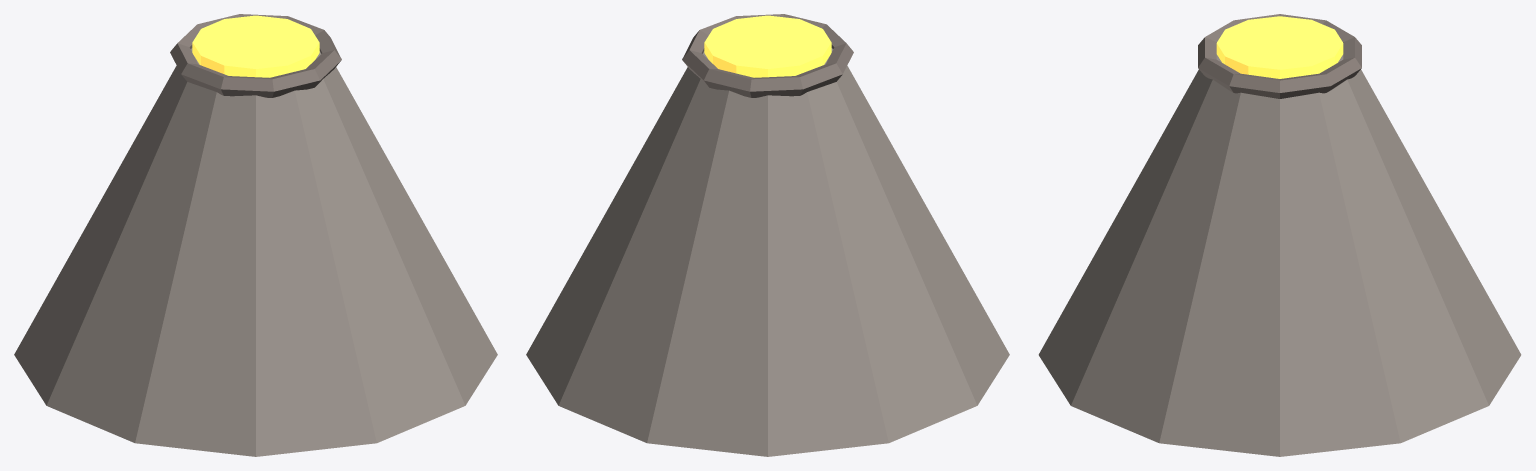
Rendered from 27-Islas-Ubicaciones_volcan.glb.
The picture shows the model from 3 angles, left to right: view 1: azimuth 30°, elevation 25°; view 2: azimuth 150°, elevation 25°; view 3: azimuth 270°, elevation 25°; orthographic projection.
Visible parts, largest first — view 1: SM_Volcan_M_Volcan_Roca, SM_Volcan_M_Volcan_Lava, SM_Volcan_M_Volcan_Roca_Osc; view 2: SM_Volcan_M_Volcan_Roca, SM_Volcan_M_Volcan_Lava, SM_Volcan_M_Volcan_Roca_Osc; view 3: SM_Volcan_M_Volcan_Roca, SM_Volcan_M_Volcan_Lava, SM_Volcan_M_Volcan_Roca_Osc.
Part boxes in pixels (x1,y1,x2,y2): SM_Volcan_M_Volcan_Roca: (14,48,497,456); SM_Volcan_M_Volcan_Lava: (192,15,319,77); SM_Volcan_M_Volcan_Roca_Osc: (170,14,341,97); SM_Volcan_M_Volcan_Roca: (526,48,1009,456); SM_Volcan_M_Volcan_Lava: (704,15,831,77); SM_Volcan_M_Volcan_Roca_Osc: (682,14,853,97); SM_Volcan_M_Volcan_Roca: (1038,54,1521,456); SM_Volcan_M_Volcan_Lava: (1216,16,1343,78); SM_Volcan_M_Volcan_Roca_Osc: (1198,14,1361,98).
Size of the model in its own units: 8 by 5.7 by 8.
